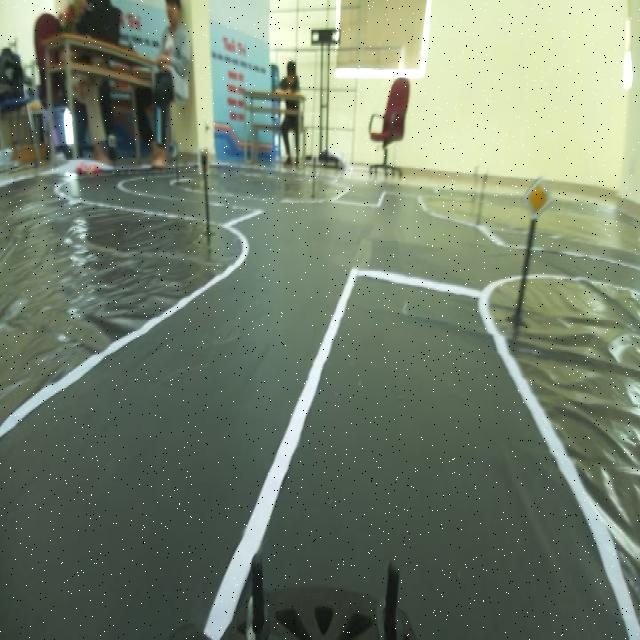priority: (520, 172, 554, 222)
